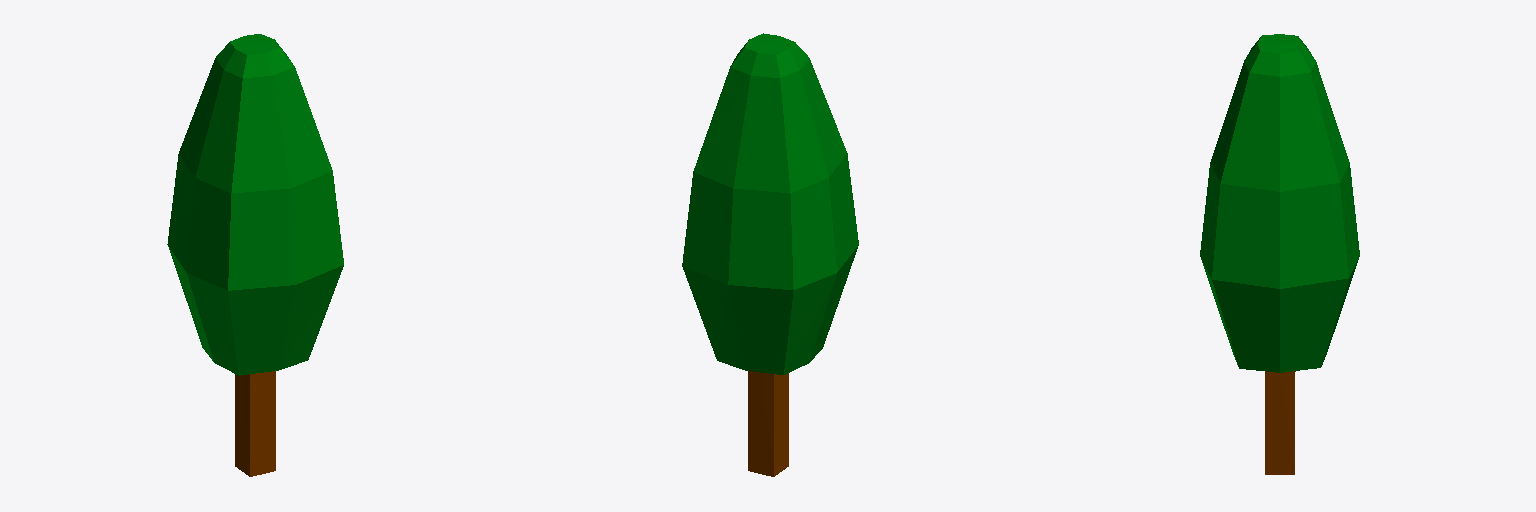
3 renders of one model, left to right at view 1: azimuth 30°, elevation 25°; view 2: azimuth 150°, elevation 25°; view 3: azimuth 270°, elevation 25°, orthographic.
Visible parts, largest first — view 1: Cube_Cube.001; view 2: Cube_Cube.001; view 3: Cube_Cube.001.
Boxes of the visible parts, x1,y1,x2,y2 form: Cube_Cube.001: [167, 34, 343, 476]; Cube_Cube.001: [682, 33, 858, 476]; Cube_Cube.001: [1200, 34, 1359, 474].
Size of the model in its own units: 0.72 by 2.11 by 0.7199.
1 materials, 1 textured.